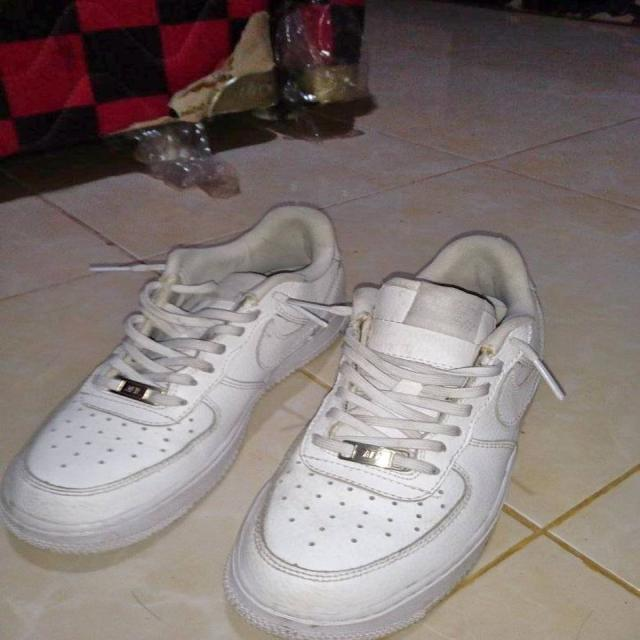nike fake air force: (0, 200, 382, 558), (220, 233, 554, 640)
